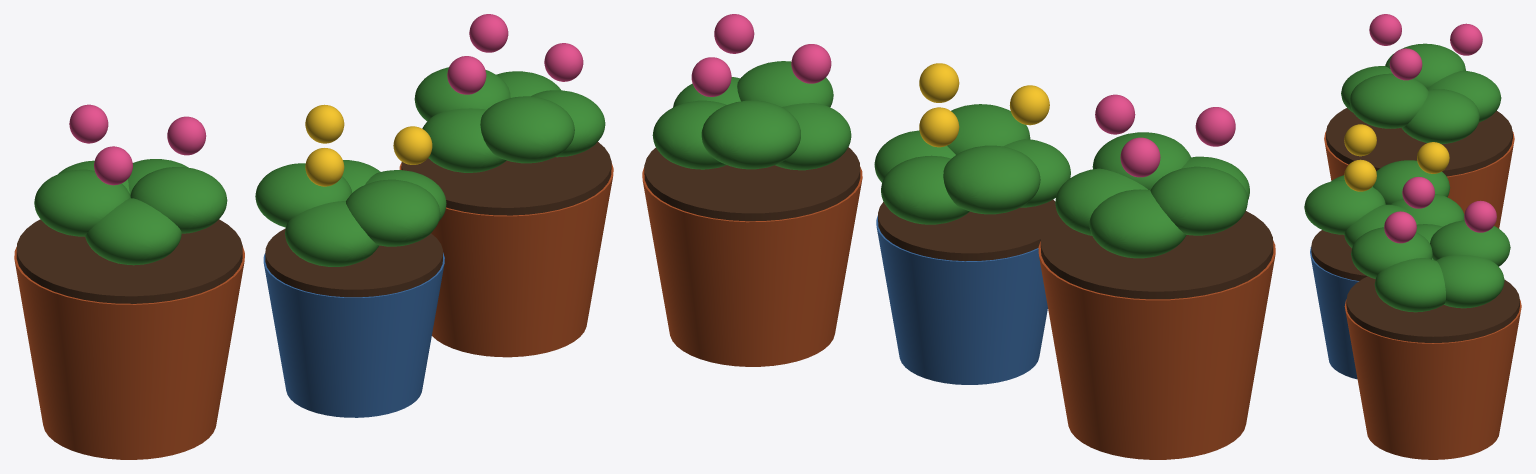
Rendered from ChauCay_SanPhoi.glb.
3 renders of one model, left to right at view 1: azimuth 30°, elevation 25°; view 2: azimuth 150°, elevation 25°; view 3: azimuth 270°, elevation 25°, orthographic. The views are drawn at different scales.
Parts seen in each view (by area): view 1: ChauCay_SanPhoi; view 2: ChauCay_SanPhoi; view 3: ChauCay_SanPhoi.
Boxes of the visible parts, x1,y1,x2,y2 form: ChauCay_SanPhoi: (14,14,613,459); ChauCay_SanPhoi: (642,14,1275,459); ChauCay_SanPhoi: (1304,14,1521,459).
Size of the model in its own units: 0.7956 by 0.3931 by 0.3143.
